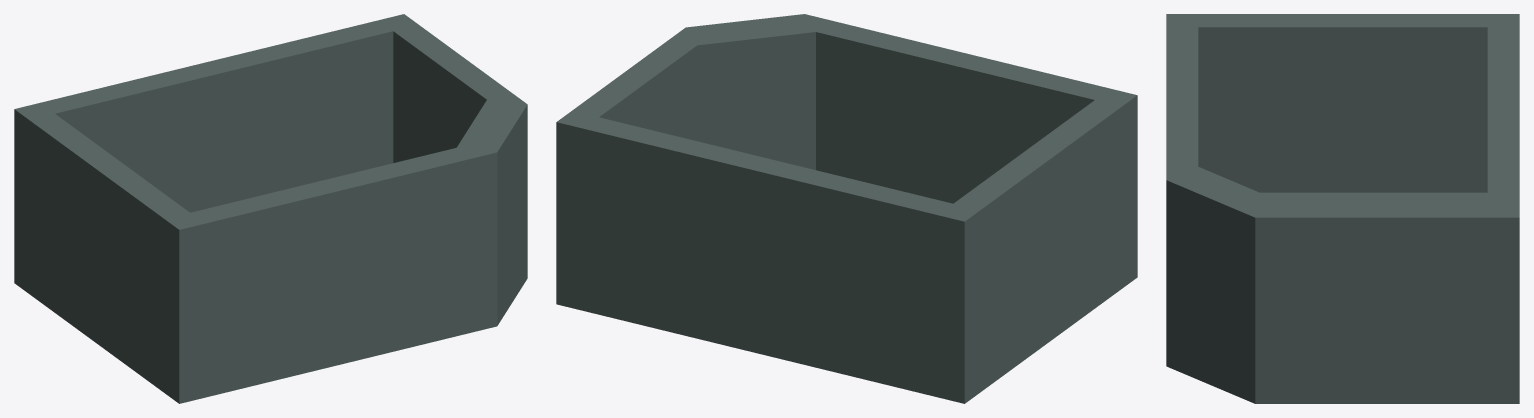
The model's file is SM_box_small_03.fbx.
The picture shows the model from 3 angles, left to right: view 1: azimuth 30°, elevation 25°; view 2: azimuth 150°, elevation 25°; view 3: azimuth 270°, elevation 25°; orthographic projection. The views are drawn at different scales.
Parts seen in each view (by area): view 1: box_small_03; view 2: box_small_03; view 3: box_small_03.
Part boxes in pixels (x1,y1,x2,y2): box_small_03: (14, 14, 527, 403); box_small_03: (556, 14, 1137, 403); box_small_03: (1166, 14, 1519, 403).
Size of the model in its own units: 45.06 by 19.22 by 33.04.
